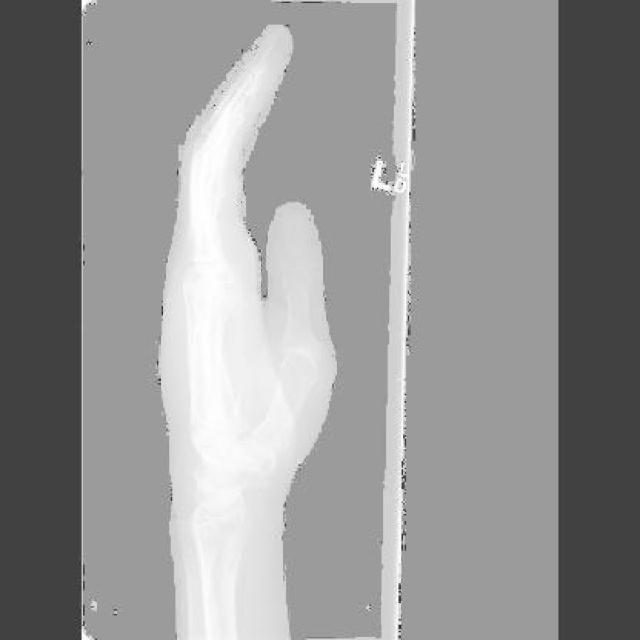Fracture: (206, 388, 246, 433)
